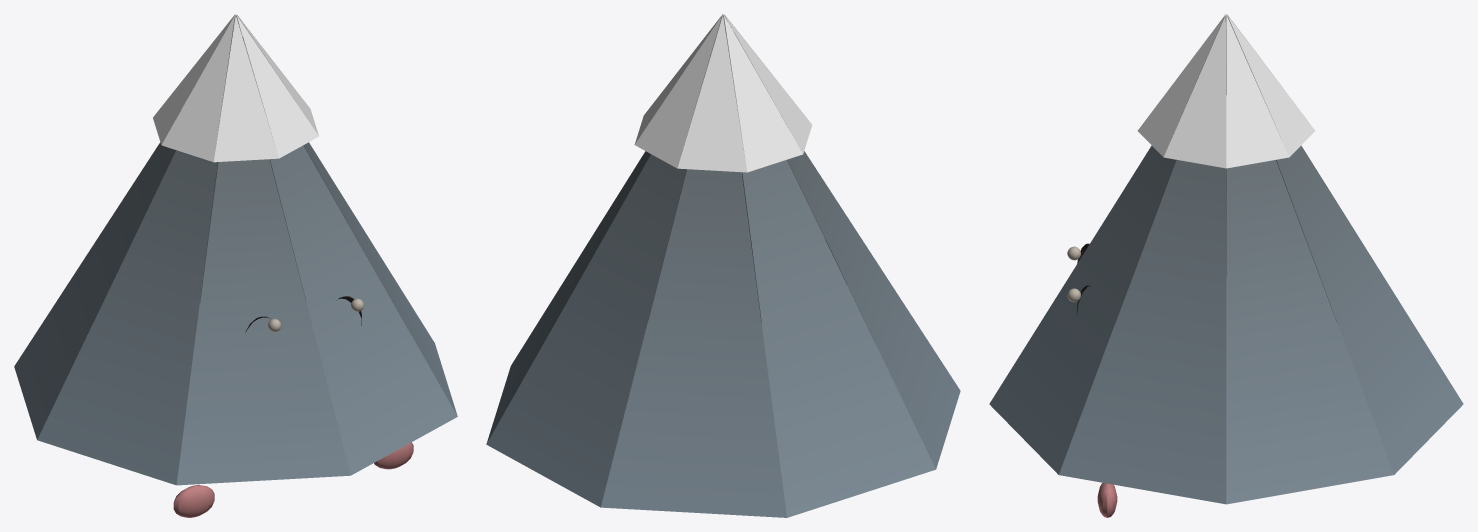
File: p2ffdb687.glb
3 renders of one model, left to right at view 1: azimuth 30°, elevation 25°; view 2: azimuth 150°, elevation 25°; view 3: azimuth 270°, elevation 25°, orthographic. The views are drawn at different scales.
Visible parts, largest first — view 1: pet_p2ffdb687; view 2: pet_p2ffdb687; view 3: pet_p2ffdb687.
Part boxes in pixels (x1,y1,x2,y2): pet_p2ffdb687: [14, 14, 457, 517]; pet_p2ffdb687: [486, 14, 960, 517]; pet_p2ffdb687: [989, 14, 1463, 517].
Bounding box in the file's own units: 0.48 × 0.5026 × 0.48.
